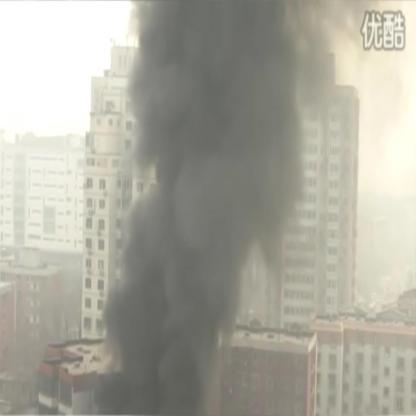smoke: (170, 46, 304, 200), (132, 0, 351, 46), (151, 275, 218, 411), (101, 280, 150, 409), (166, 203, 250, 272), (130, 45, 169, 184), (124, 195, 166, 273), (257, 201, 285, 278), (219, 274, 242, 342)
